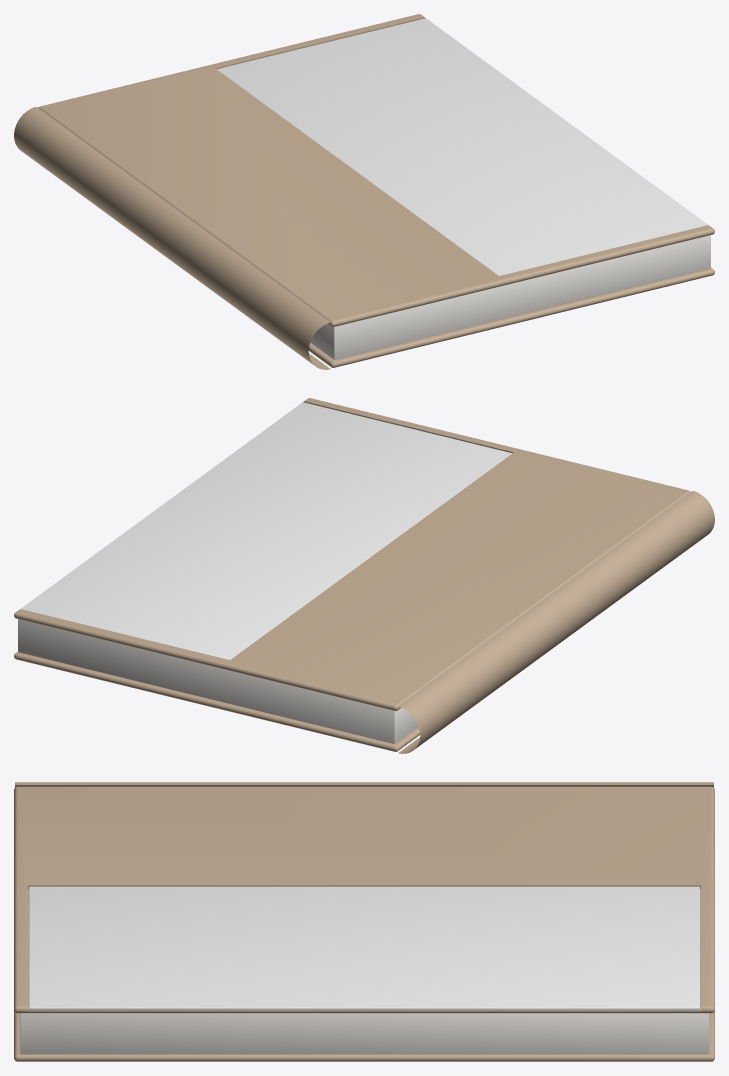
The model's file is photo-side--portrait.glb.
The picture shows the model from 3 angles, top to bottom: view 1: azimuth 30°, elevation 25°; view 2: azimuth 150°, elevation 25°; view 3: azimuth 270°, elevation 25°; orthographic projection. The views are drawn at different scales.
Parts seen in each view (by area): view 1: Photo, CoverFront, Spine, Pages, CoverBack; view 2: Photo, CoverFront, Spine, Pages, CoverBack; view 3: Photo, CoverFront, Pages, CoverBack, Spine.
Boxes of the visible parts, x1,y1,x2,y2 form: Photo: (217, 18, 708, 275); CoverFront: (38, 14, 714, 326); Spine: (14, 106, 330, 369); Pages: (310, 235, 710, 359); CoverBack: (308, 268, 714, 367); Photo: (20, 402, 511, 659); CoverFront: (14, 398, 690, 710); Spine: (398, 490, 714, 753); Pages: (18, 619, 418, 743); CoverBack: (14, 652, 420, 751); Photo: (29, 886, 699, 1010); CoverFront: (14, 786, 714, 1013); Pages: (20, 1013, 708, 1054); CoverBack: (14, 1011, 714, 1061); Spine: (15, 782, 713, 787).
Size of the model in its own units: 0.3179 by 0.0352 by 0.4.
